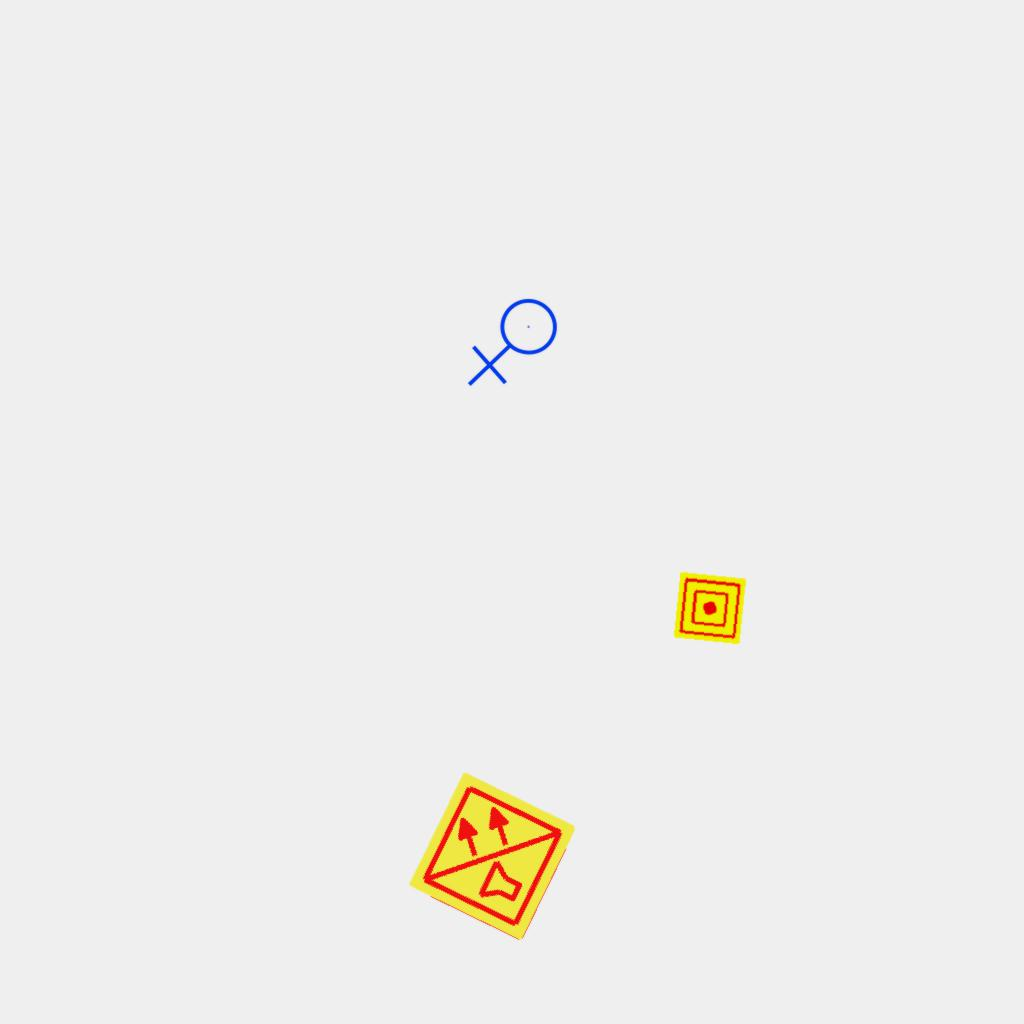Elektroanschluss_allgemein_230V_Geraeteanschlussdose_230V: (467, 297, 566, 391)
NAM-Nichtautomatischer_Melder: (673, 571, 747, 645)
OKW_Multisensormelder_(Kombination_optischer_Rauch-Kahlenmonoxid_Waerme-Melder): (404, 767, 582, 945)
